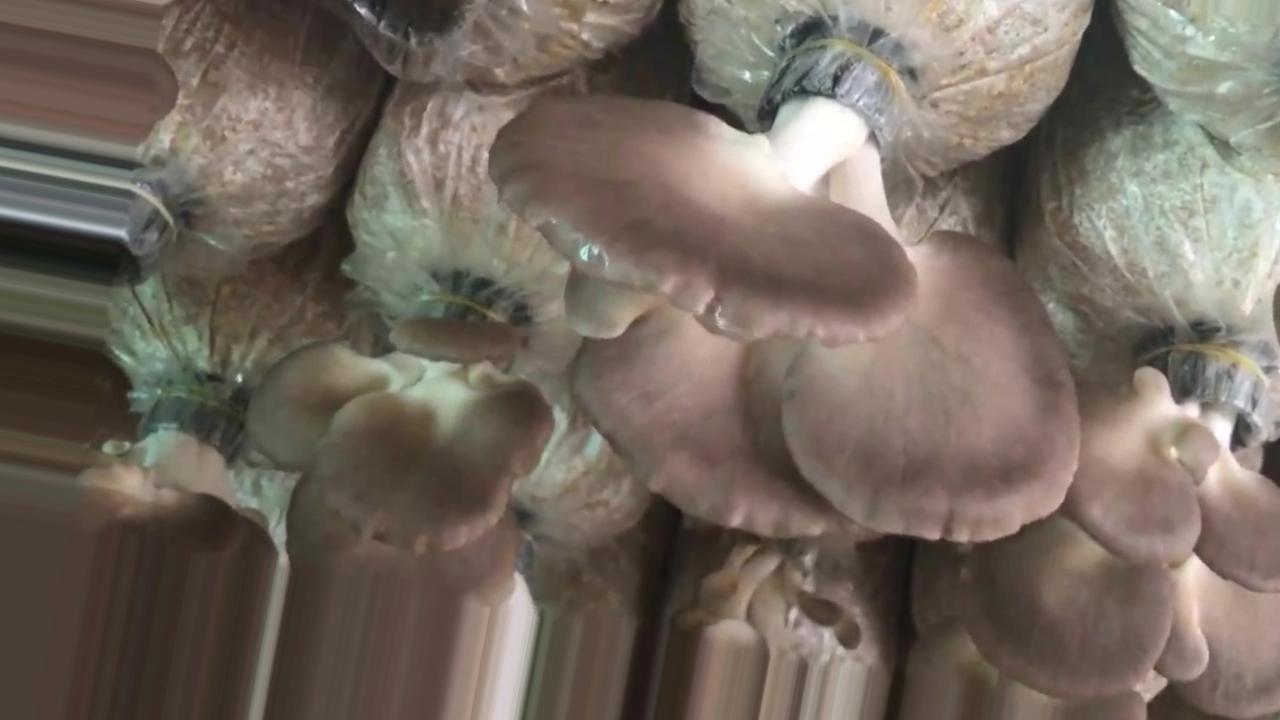nam: (489, 46, 1080, 543), (907, 348, 1280, 720), (246, 306, 552, 720), (1, 391, 275, 720)
